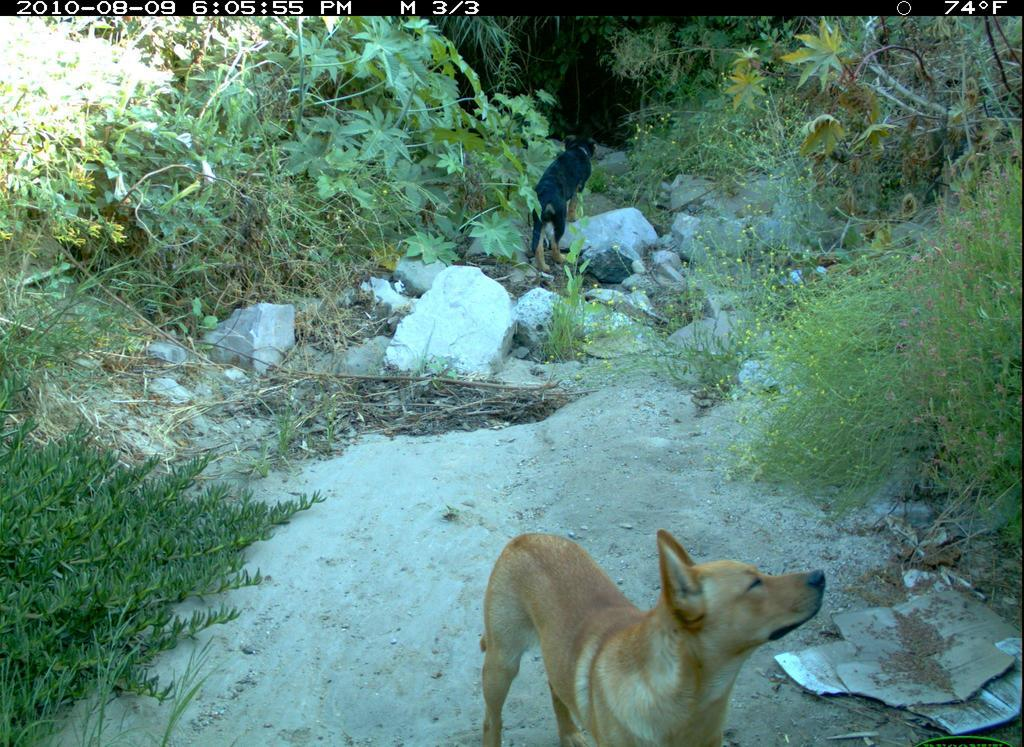dog: (465, 506, 852, 745), (502, 116, 615, 294)
